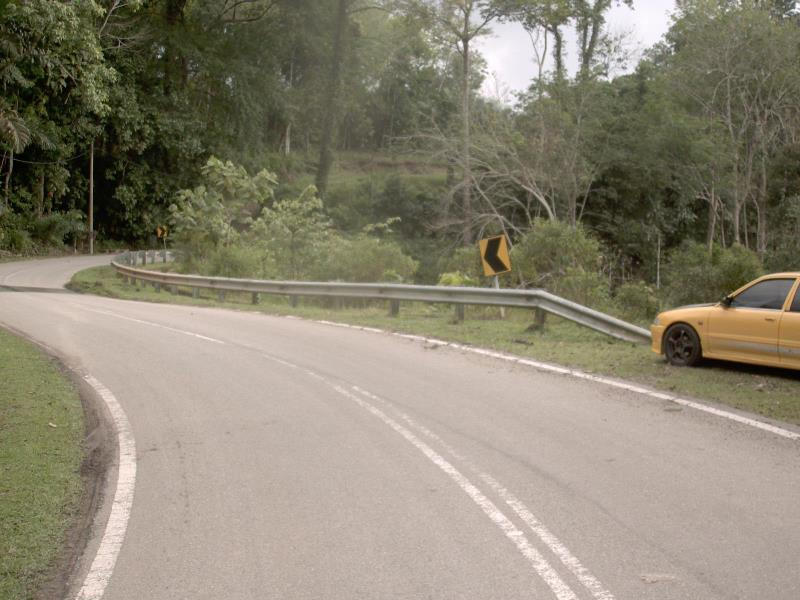traffic_sign: (470, 225, 519, 283)
